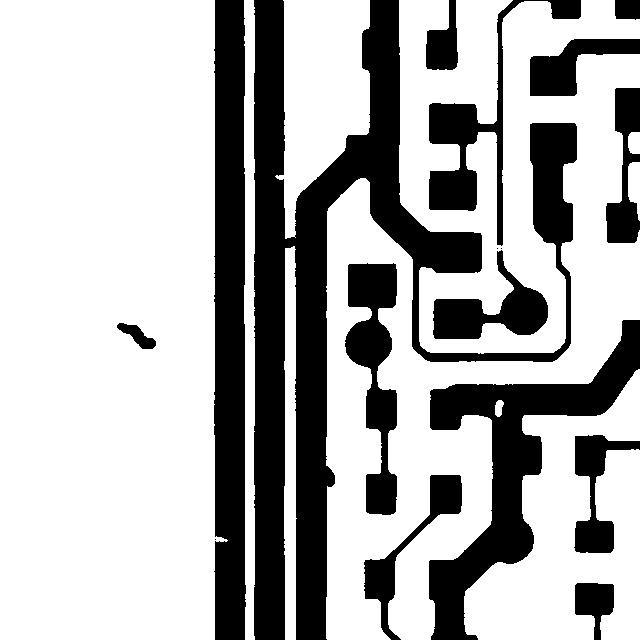copper: (107, 313, 165, 358)
mousebite: (201, 525, 237, 551), (265, 165, 297, 189)
open: (483, 234, 518, 261)
pin-hole: (485, 390, 513, 426)
short: (271, 227, 307, 257)
spur: (311, 456, 344, 496)
